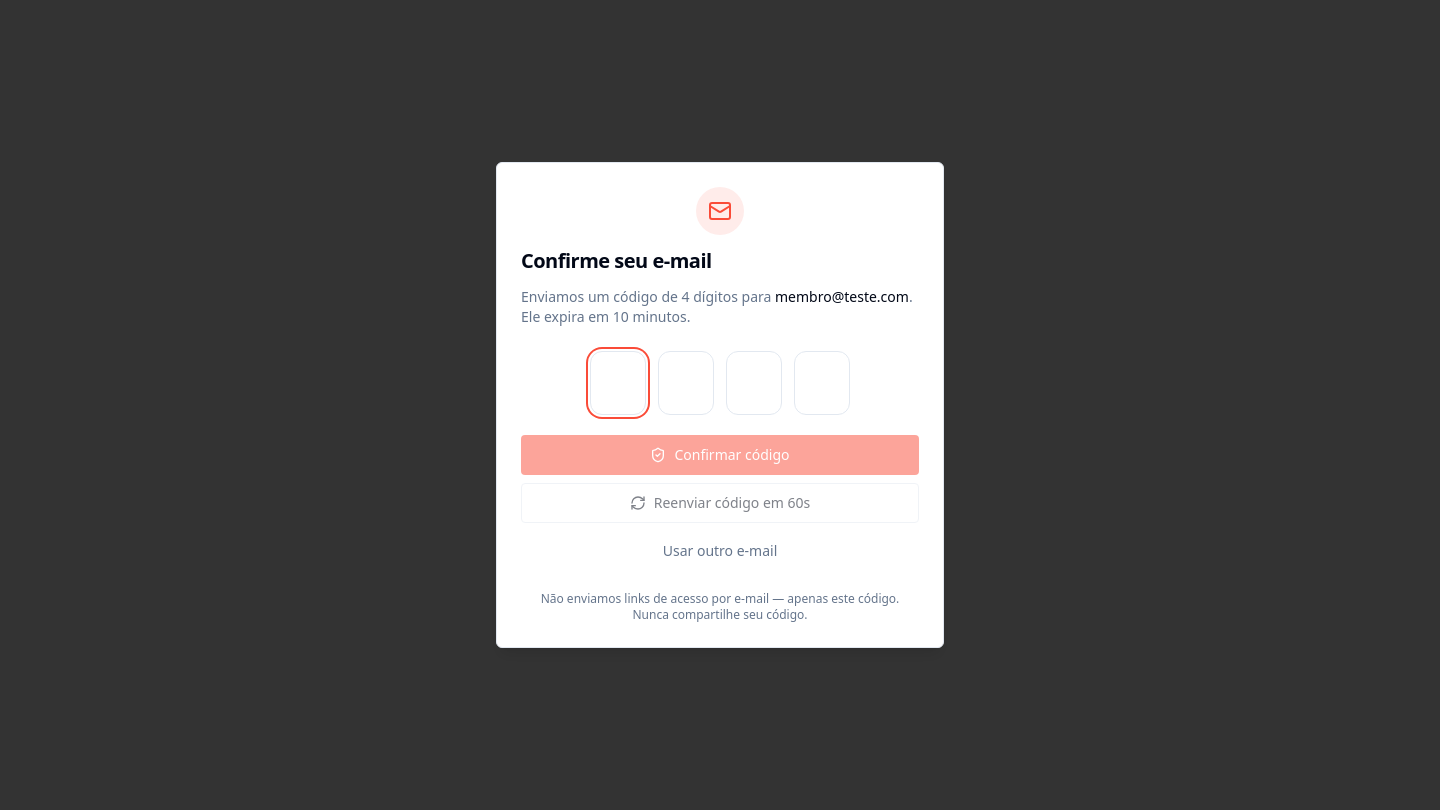
Test: EmailCodeVerificationModal › mostra mensagem específica para código expirado
The image size is (1440, 810).
Type "1" into the field named "Dígito 1 de 4" at (618, 383), box x1=590 y1=351 x2=646 y2=415
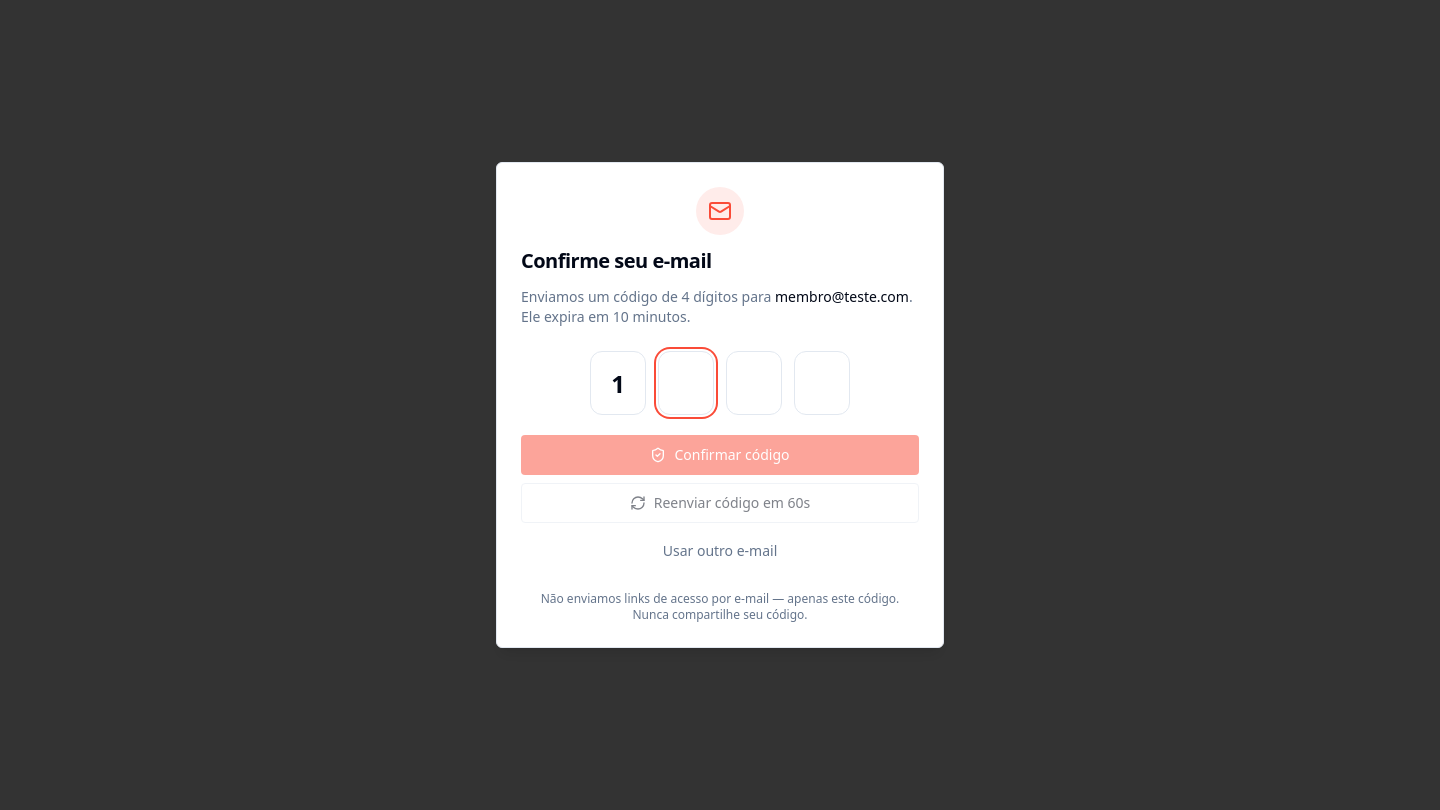
Type "1" into the field named "Dígito 2 de 4" at (686, 383), box x1=658 y1=351 x2=714 y2=415
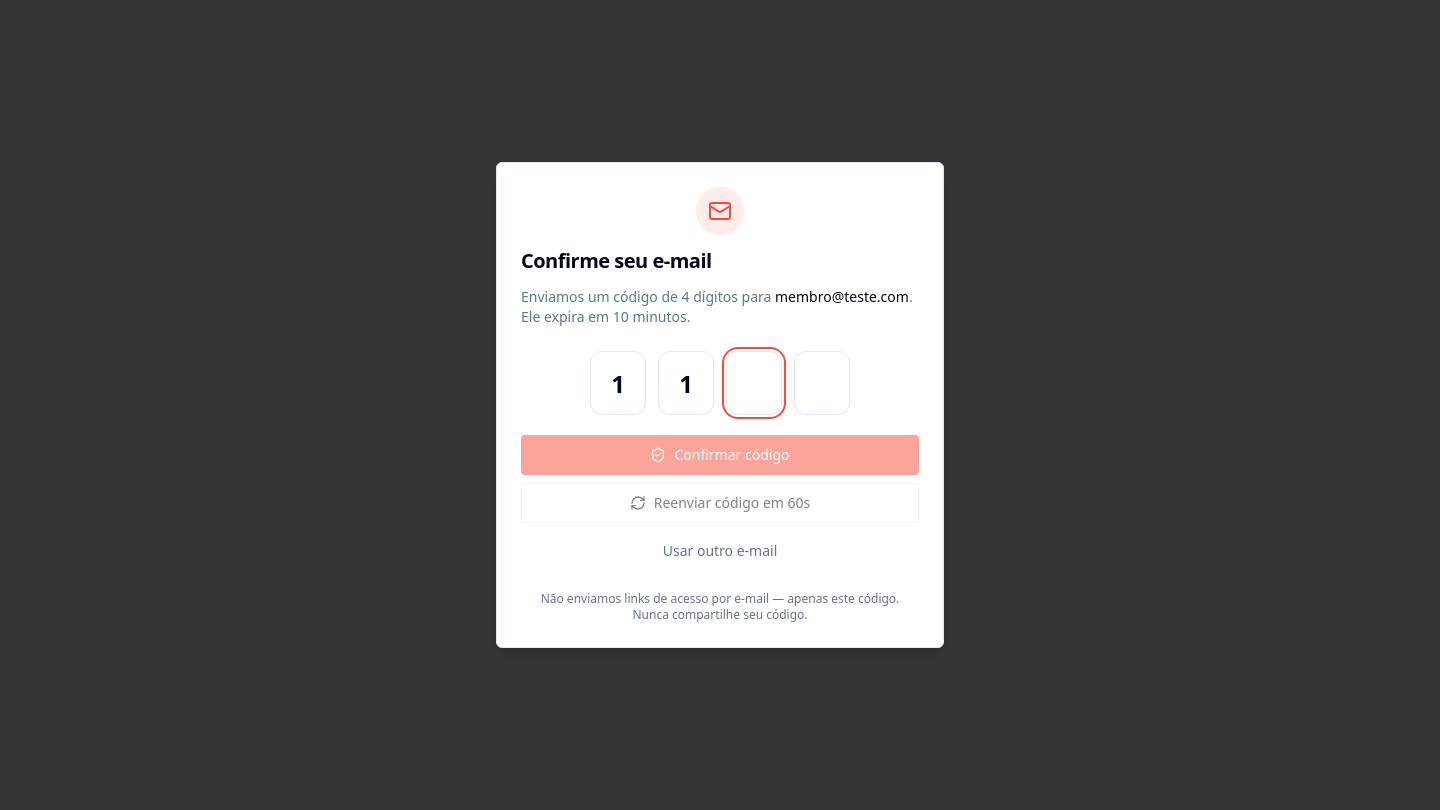
Type "1" into the field named "Dígito 3 de 4" at (754, 383), box x1=726 y1=351 x2=782 y2=415
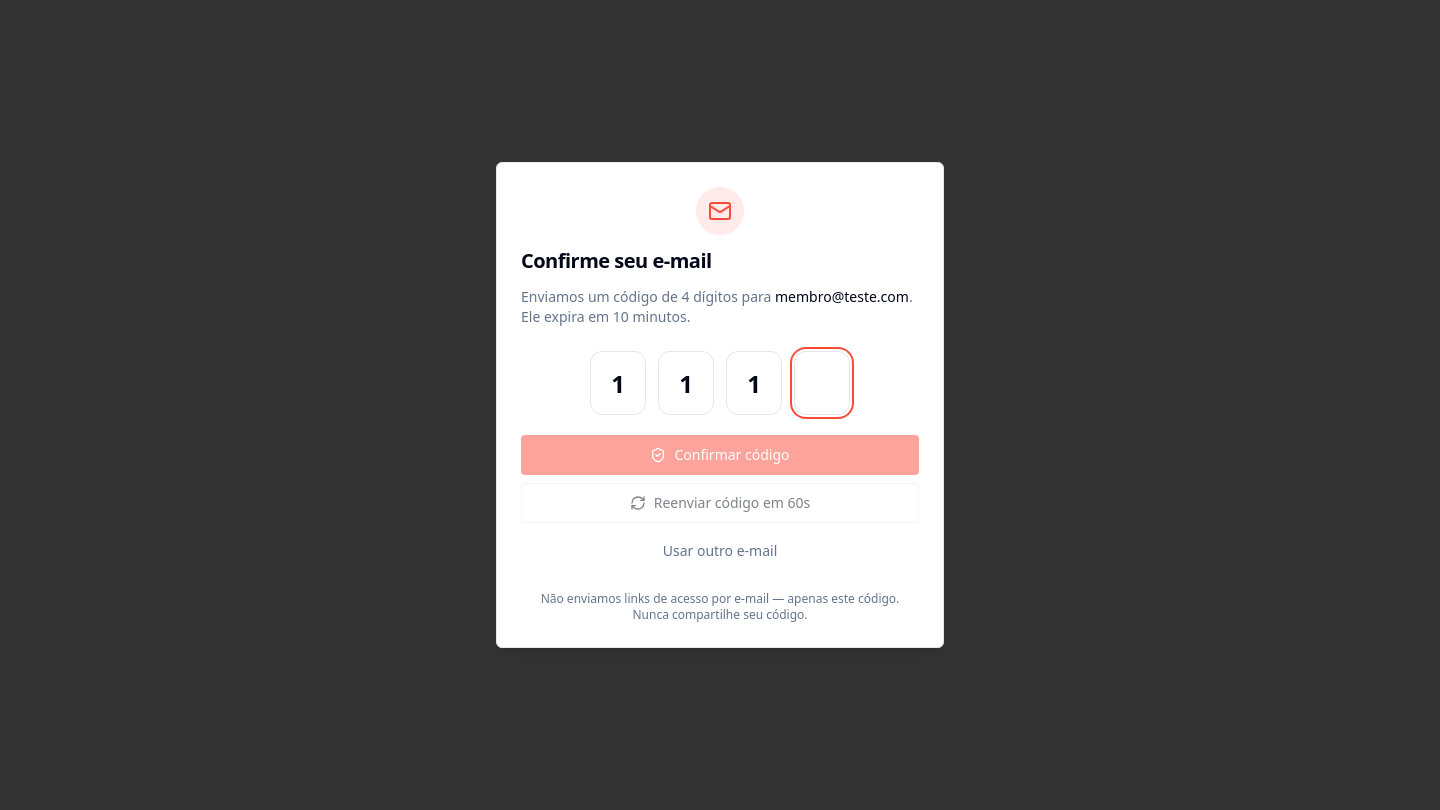
Type "1" into the field named "Dígito 4 de 4" at (822, 383), box x1=794 y1=351 x2=850 y2=415
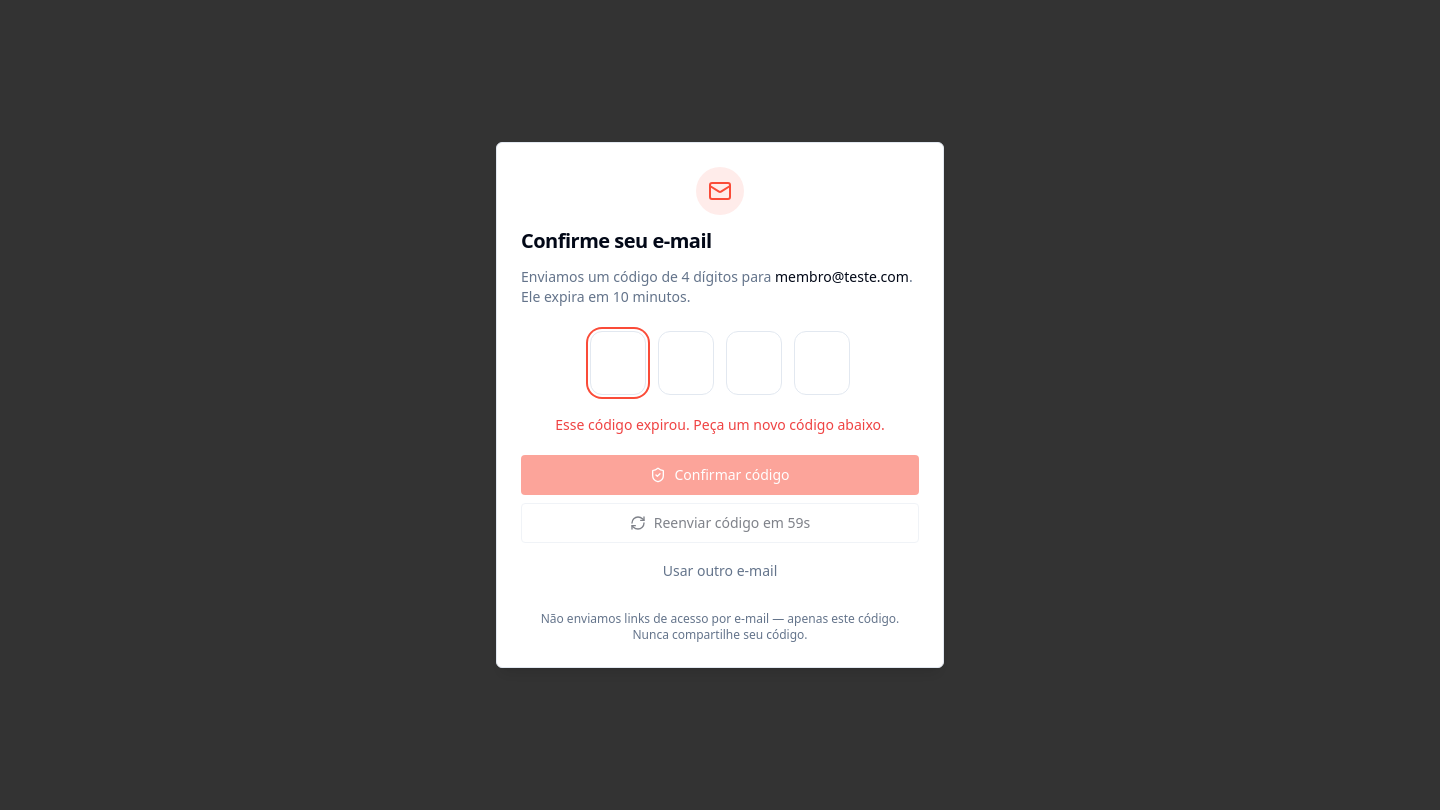
Expected: the message shows "expir", x1=555 y1=415 x2=885 y2=434
